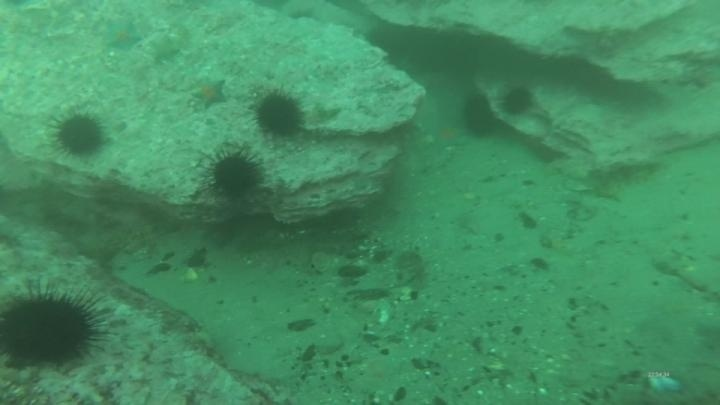echinus: (1, 277, 105, 367), (204, 147, 265, 201), (252, 87, 307, 141), (51, 109, 108, 160), (458, 90, 499, 141), (498, 84, 537, 119)
holothurian: (573, 146, 660, 194)
starfish: (101, 16, 145, 54), (189, 75, 230, 111), (429, 119, 469, 151), (148, 31, 183, 65)
